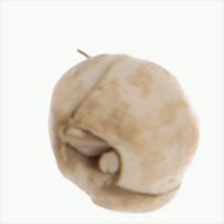L3: (58, 121, 120, 181)
L4: (49, 54, 198, 213)
